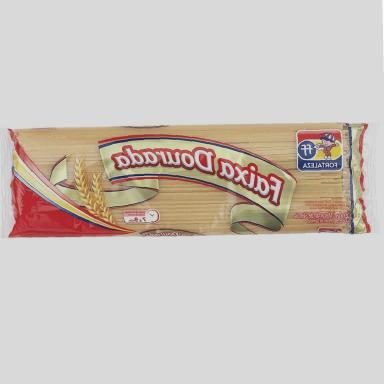pasta package: (2, 124, 377, 237)
